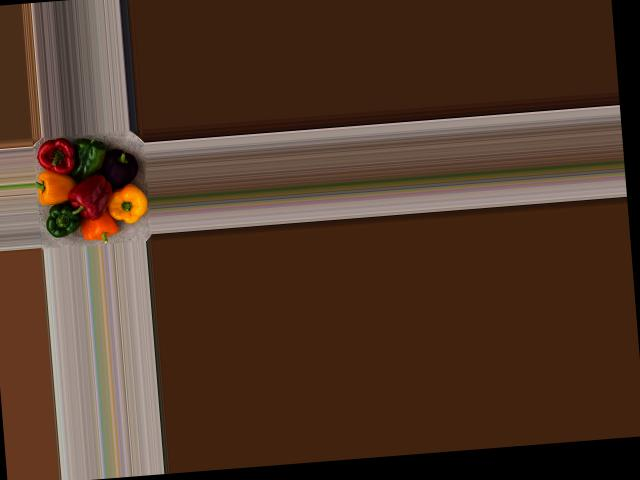bell_pepper: (92, 137, 138, 191)
